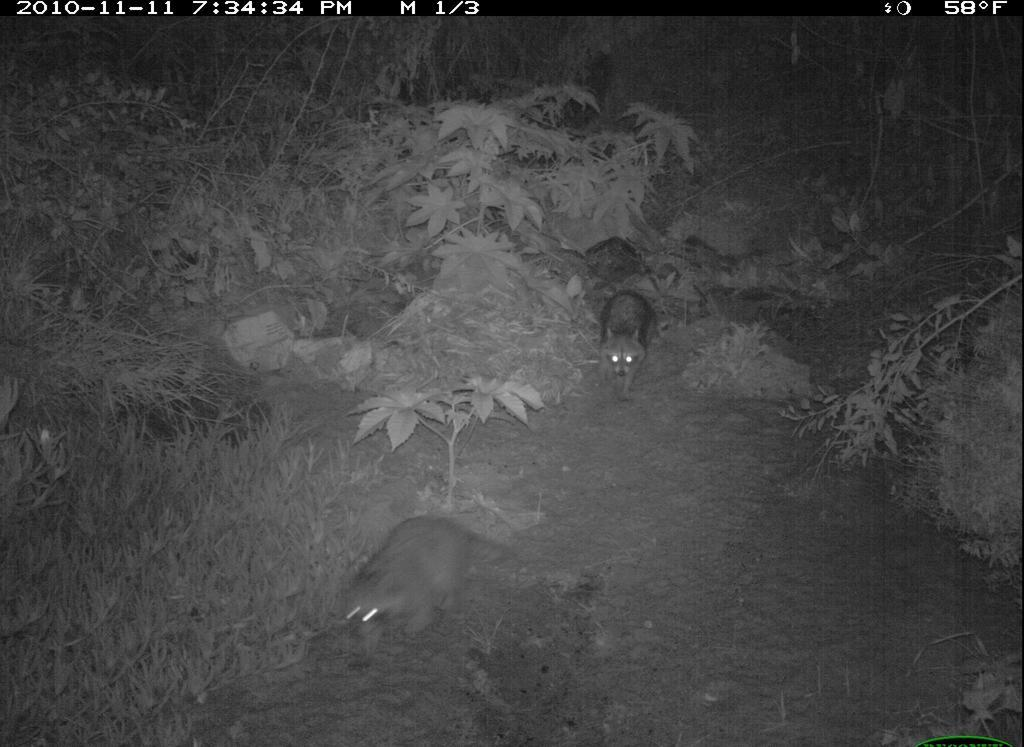raccoon: (314, 504, 529, 649), (585, 281, 658, 410)
